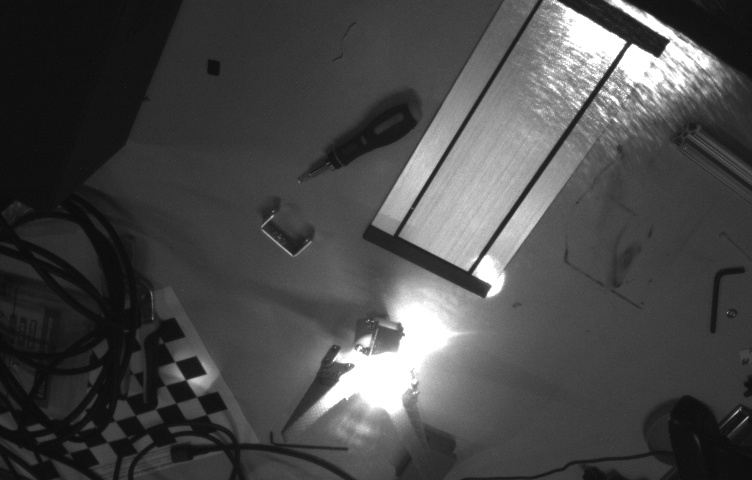Object robotic gripper finger assembly - Material plastic - Color blue - Pdfname: (343, 350, 407, 406)
